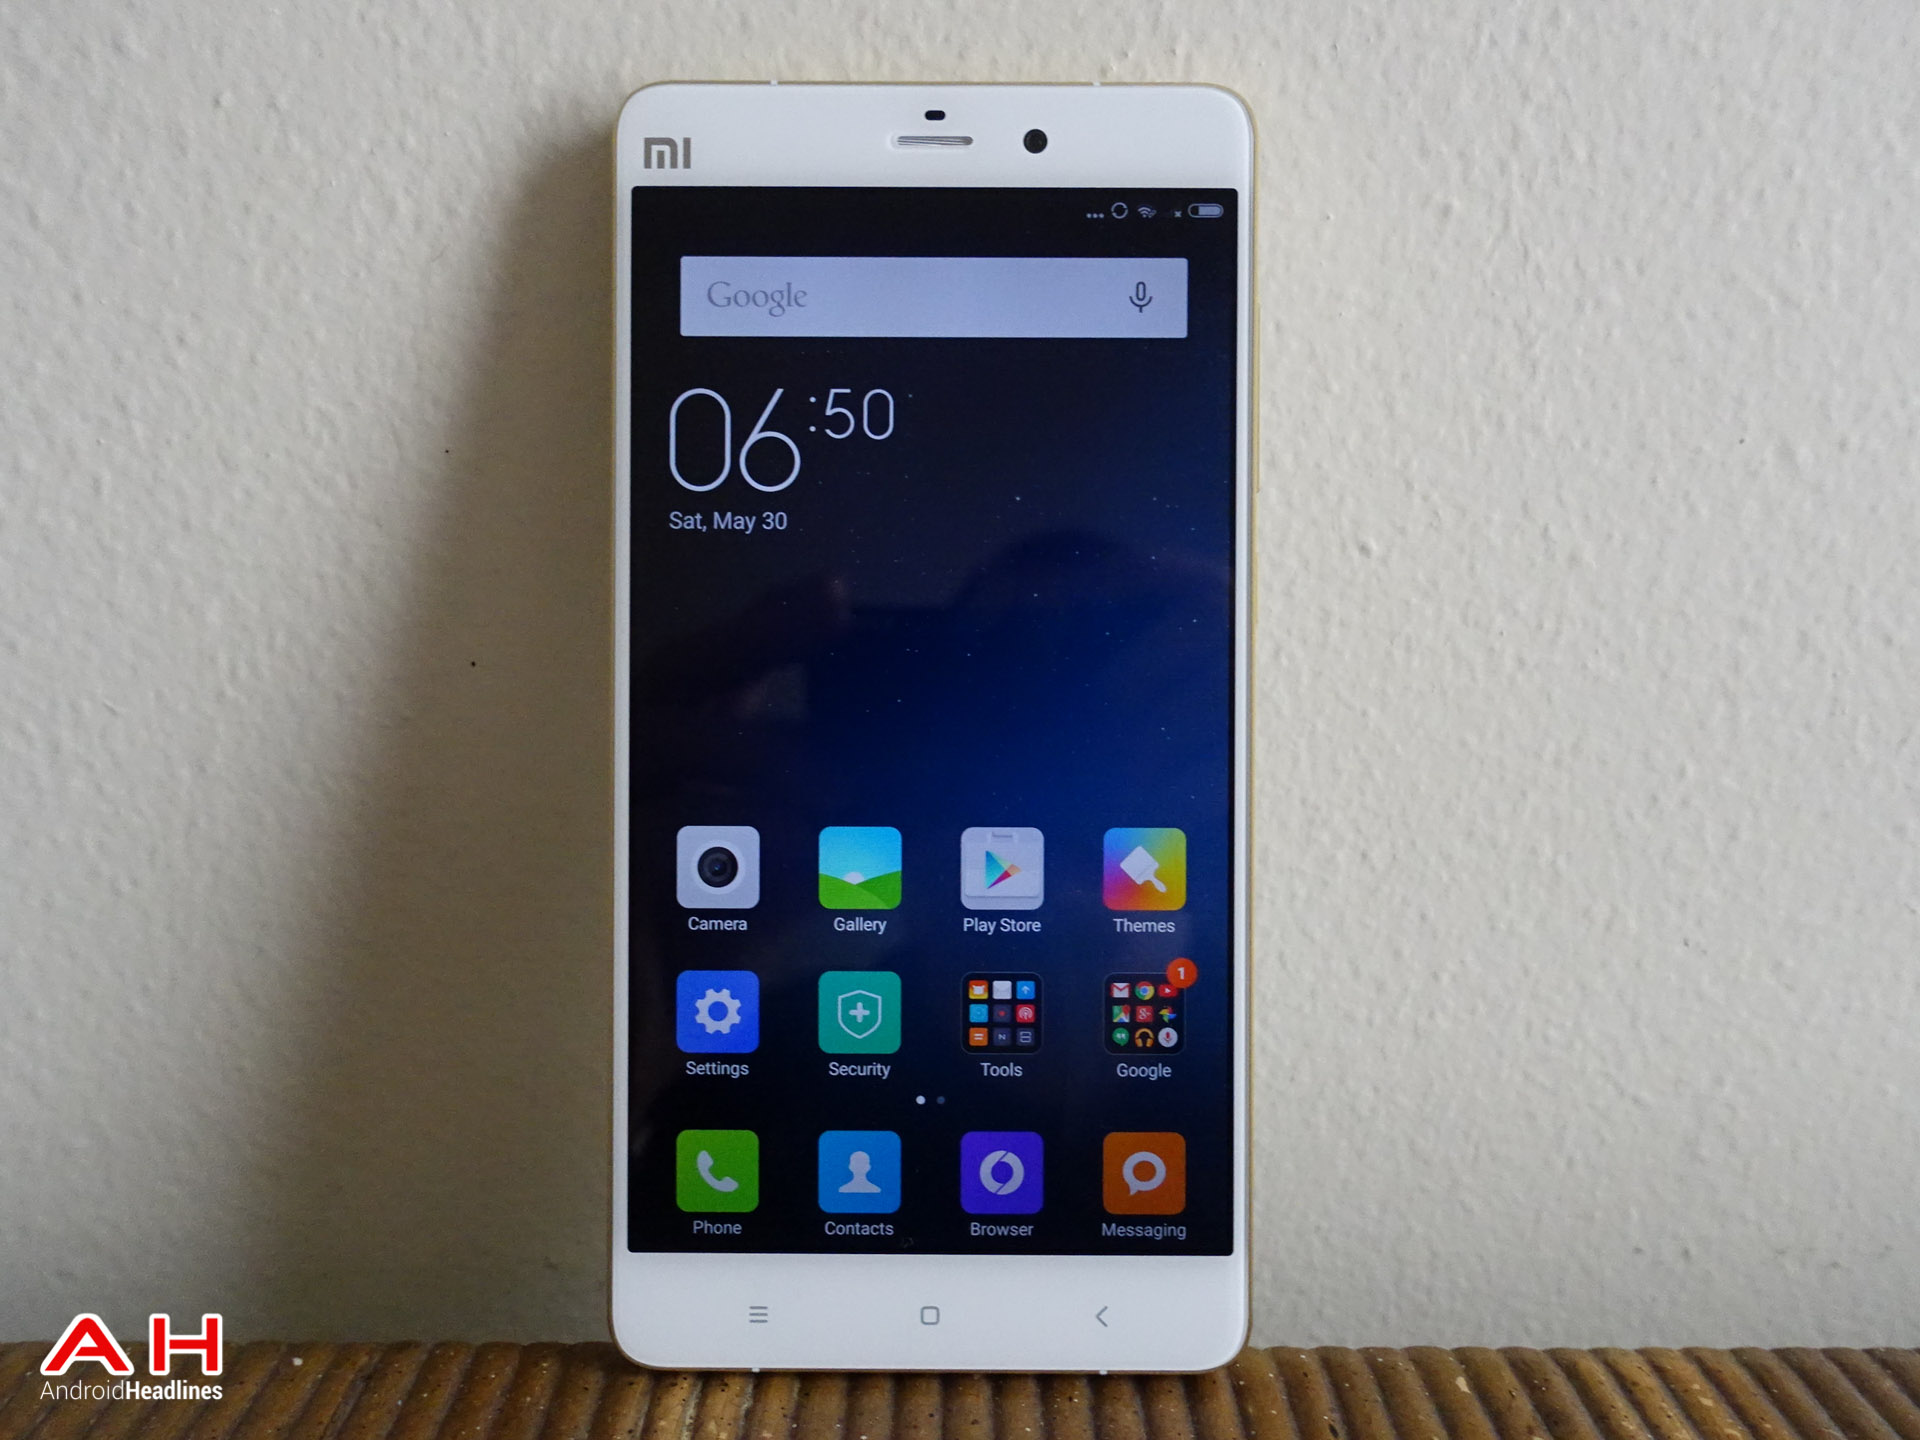smartphone: (608, 77, 1259, 1372)
